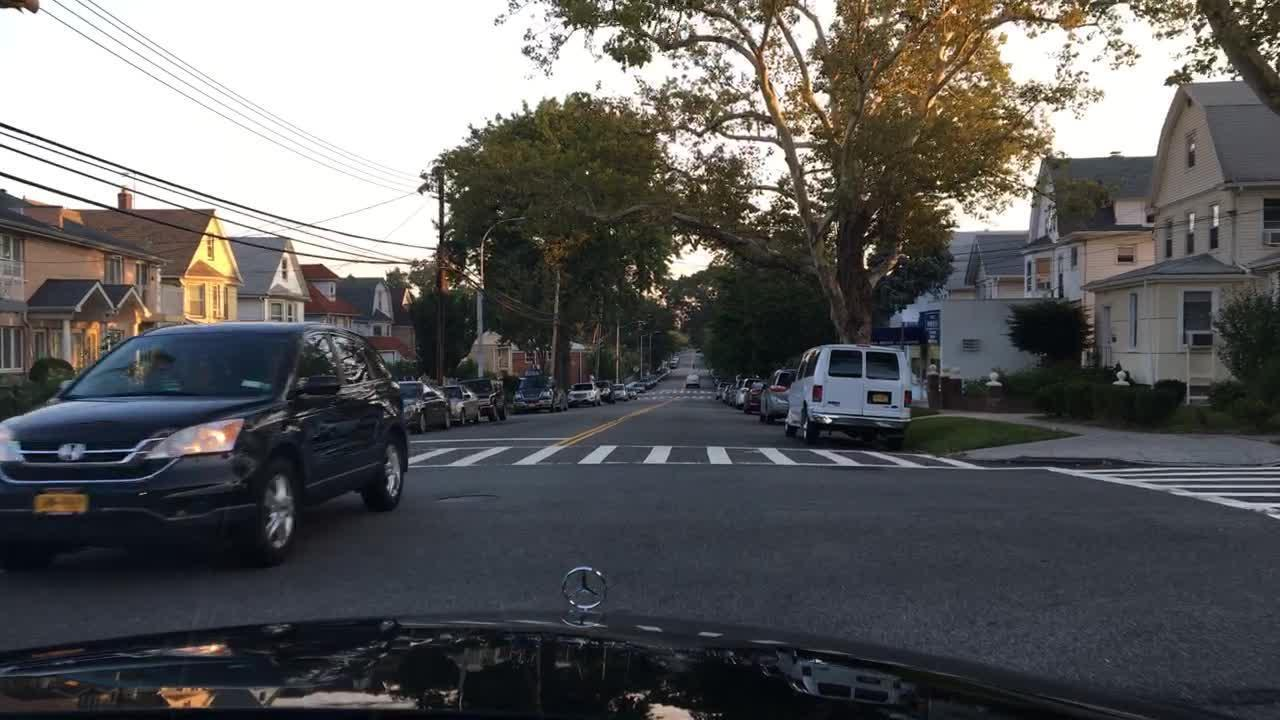Mercedes: (557, 565, 609, 610)
